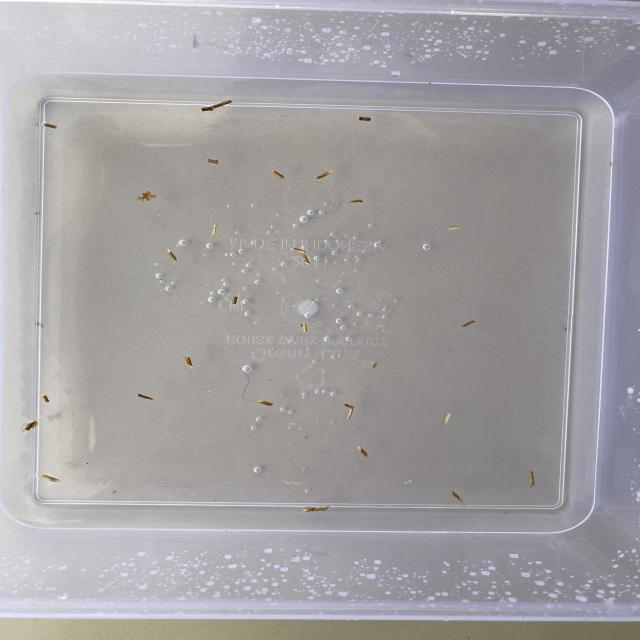Wereng: (194, 101, 243, 116), (522, 465, 540, 492), (352, 113, 386, 126), (224, 288, 244, 310), (134, 192, 165, 206), (294, 503, 332, 514), (37, 472, 71, 484), (352, 444, 374, 462), (368, 353, 384, 377), (268, 164, 288, 183), (129, 391, 157, 404), (348, 194, 368, 211), (254, 395, 280, 408), (166, 246, 182, 267), (448, 490, 468, 506), (316, 167, 334, 183), (202, 154, 224, 167), (182, 352, 199, 368), (300, 252, 316, 269), (39, 119, 57, 133), (26, 421, 42, 435), (344, 402, 355, 422), (286, 245, 313, 253), (443, 408, 455, 425), (303, 319, 313, 339), (212, 221, 222, 241), (38, 390, 52, 404), (450, 220, 464, 233), (455, 320, 477, 328)
